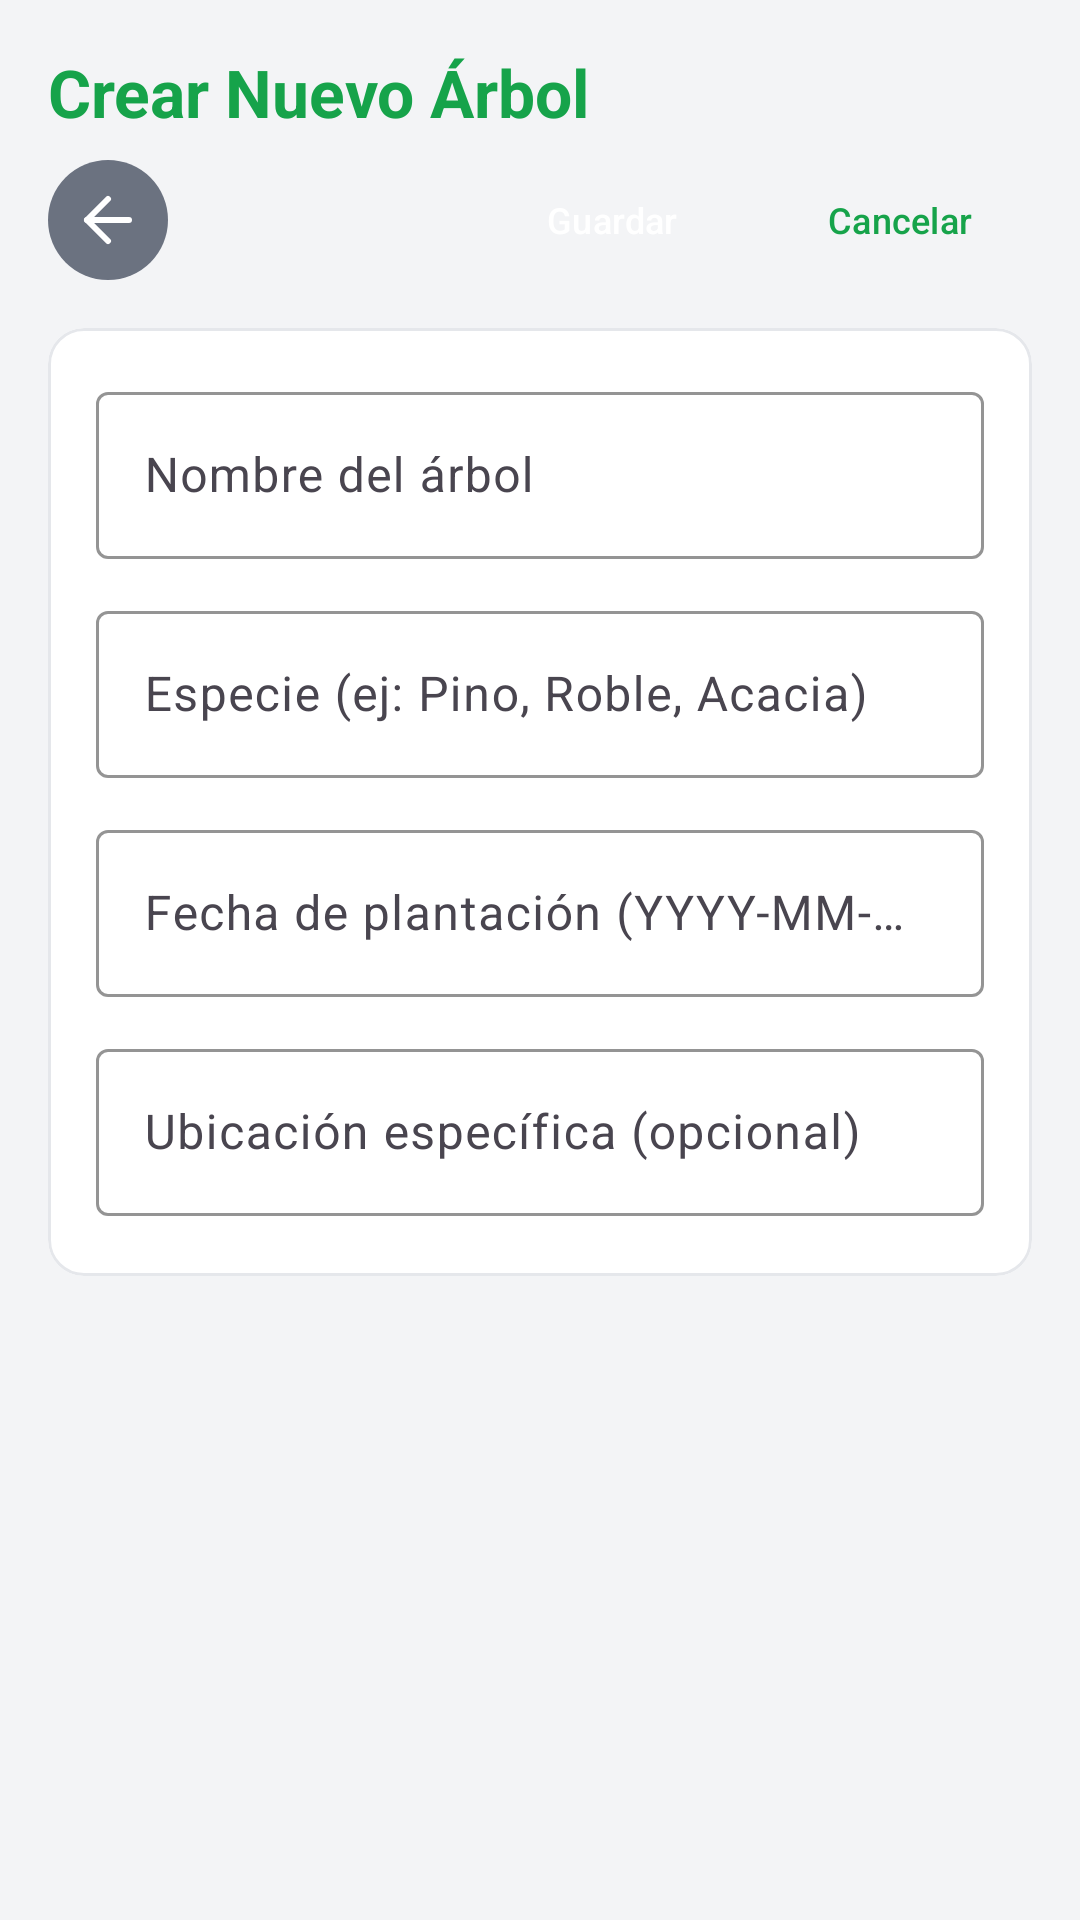

Point at icon controls on the screen. Image size 1080px×1920px, points as point (x, y).
Volver: point (108, 220)
